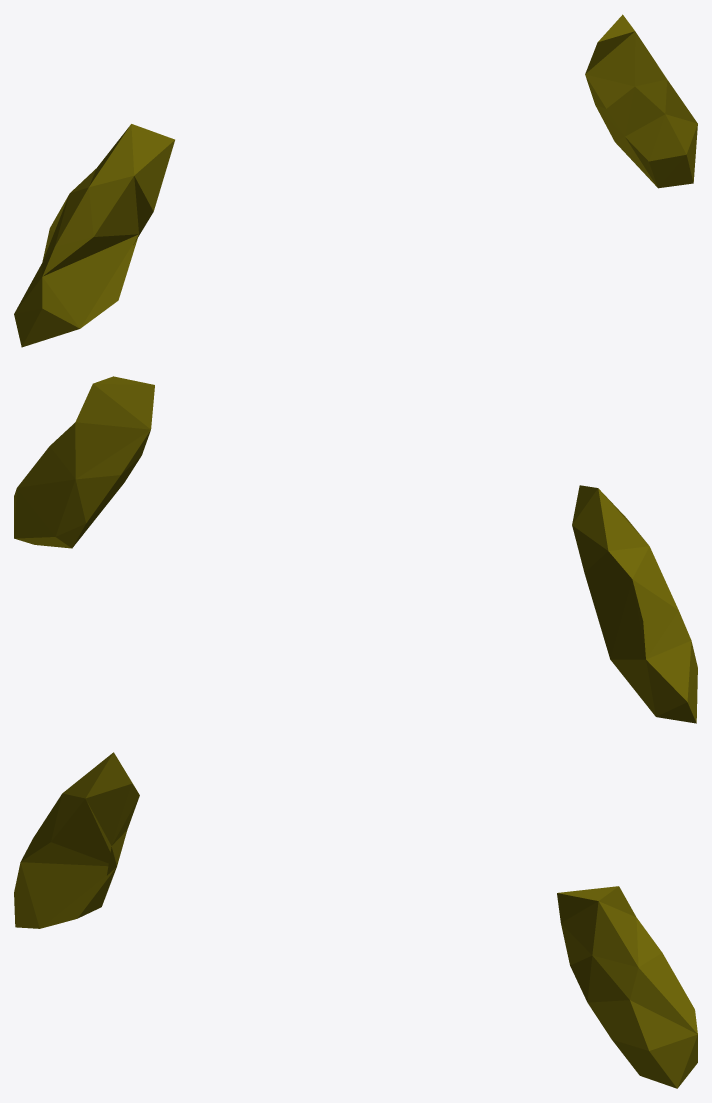
The model's file is 127-HDB-nucleus of the horizontal limb of the diagonal band-('0.4980', '0.4588', '0.0000').obj.
The picture shows the model from 3 angles, top to bottom: view 1: azimuth 30°, elevation 25°; view 2: azimuth 150°, elevation 25°; view 3: azimuth 330°, elevation 25°; orthographic projection.
Size of the model in its own units: 53.5 by 15.37 by 4.98.
